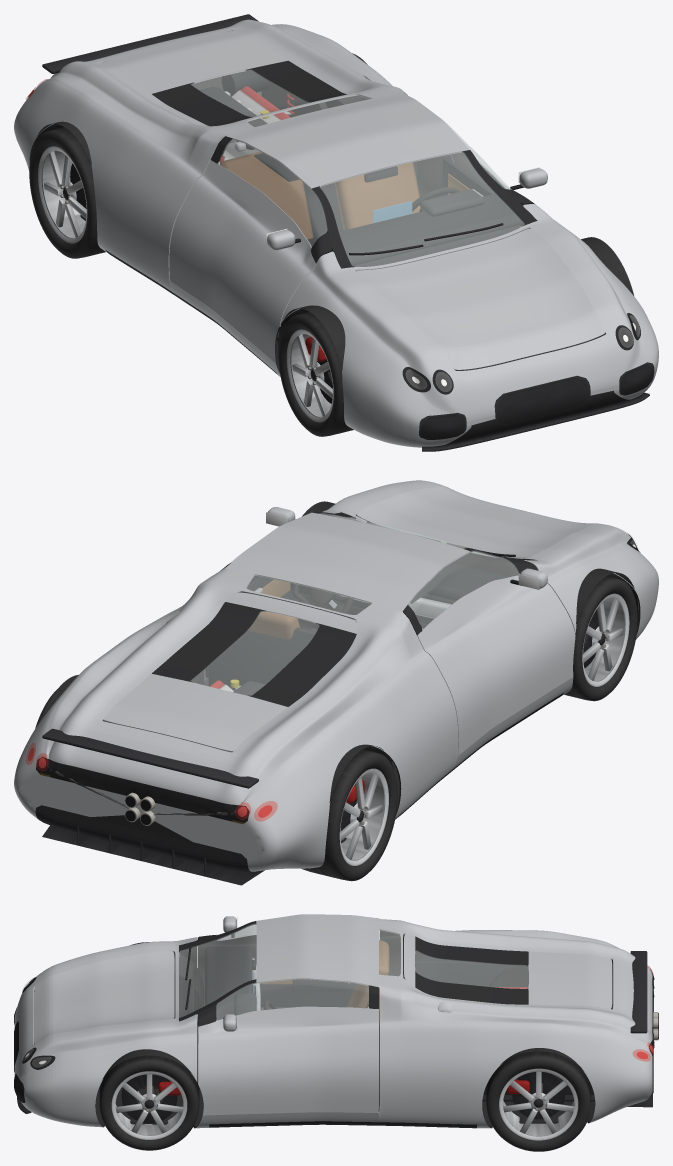
File: utopia.glb
The picture shows the model from 3 angles, top to bottom: view 1: azimuth 30°, elevation 25°; view 2: azimuth 150°, elevation 25°; view 3: azimuth 270°, elevation 25°; orthographic projection. The views are drawn at different scales.
Visible parts, largest first — view 1: Body, Hood, Door_FR, Windshield, Tailgate, Dash_Top, Door_FR_Glass, Wheel_RR_Tire, Wheel_FR_Tire, Seat_FL_Back, Tailgate_Glass, Seat_FR_Back (+20 smaller); view 2: Body, Door_FR, Tailgate, Hood, Diffuser, Tailgate_Glass, Wheel_RR_Tire, Firewall_Rear, Door_FR_Glass, Rear_Vents, Wheel_FR_Tire, Spoiler (+11 smaller); view 3: Body, Door_FL, Hood, Tailgate, Windshield, Wheel_RL_Tire, Door_FL_Glass, Wheel_FL_Tire, Tailgate_Glass, Dash_Top, Door_FR_Card, Bay_Side_R (+15 smaller).
Boxes of the visible parts, bbox=[...] form: Body: bbox=[14, 19, 658, 447]; Hood: bbox=[356, 229, 605, 370]; Door_FR: bbox=[169, 136, 332, 363]; Windshield: bbox=[320, 151, 524, 266]; Tailgate: bbox=[104, 31, 356, 126]; Dash_Top: bbox=[307, 194, 523, 265]; Door_FR_Glass: bbox=[219, 139, 327, 247]; Wheel_RR_Tire: bbox=[29, 127, 105, 258]; Wheel_FR_Tire: bbox=[278, 311, 353, 436]; Seat_FL_Back: bbox=[335, 162, 420, 230]; Tailgate_Glass: bbox=[191, 69, 309, 116]; Seat_FR_Back: bbox=[220, 152, 313, 239]; Body: bbox=[14, 480, 658, 871]; Door_FR: bbox=[403, 557, 575, 755]; Tailgate: bbox=[103, 592, 357, 752]; Hood: bbox=[356, 486, 594, 557]; Diffuser: bbox=[35, 805, 264, 885]; Tailgate_Glass: bbox=[191, 611, 319, 695]; Wheel_RR_Tire: bbox=[301, 749, 397, 881]; Firewall_Rear: bbox=[208, 627, 316, 690]; Door_FR_Glass: bbox=[408, 550, 519, 628]; Rear_Vents: bbox=[36, 757, 249, 823]; Wheel_FR_Tire: bbox=[564, 576, 637, 701]; Spoiler: bbox=[42, 728, 258, 788]; Body: bbox=[14, 914, 653, 1128]; Door_FL: bbox=[198, 985, 378, 1115]; Hood: bbox=[34, 951, 174, 1044]; Tailgate: bbox=[403, 934, 612, 1008]; Windshield: bbox=[179, 923, 256, 1017]; Wheel_RL_Tire: bbox=[486, 1051, 590, 1151]; Door_FL_Glass: bbox=[216, 978, 368, 1019]; Wheel_FL_Tire: bbox=[99, 1055, 199, 1150]; Tailgate_Glass: bbox=[415, 950, 528, 988]; Dash_Top: bbox=[205, 947, 252, 1020]; Door_FR_Card: bbox=[252, 957, 356, 1007]; Bay_Side_R: bbox=[415, 961, 511, 986].
Size of the model in its own units: 2.03 by 1.19 by 4.64.
